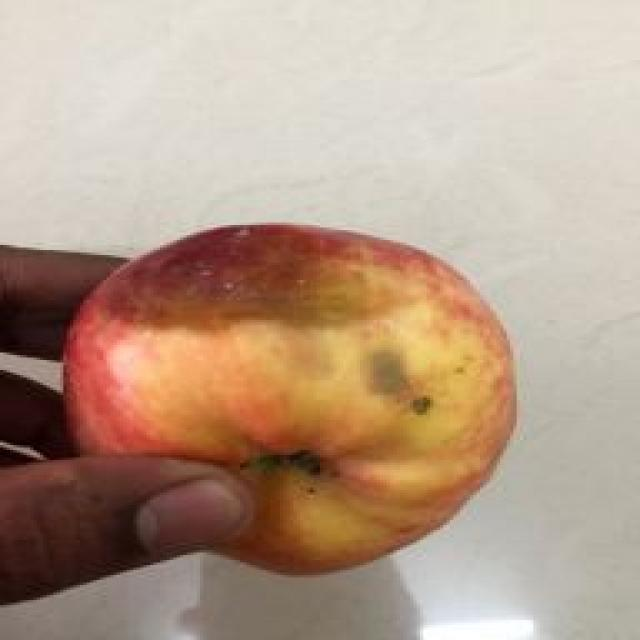Bad_Apple: (65, 225, 515, 573)
